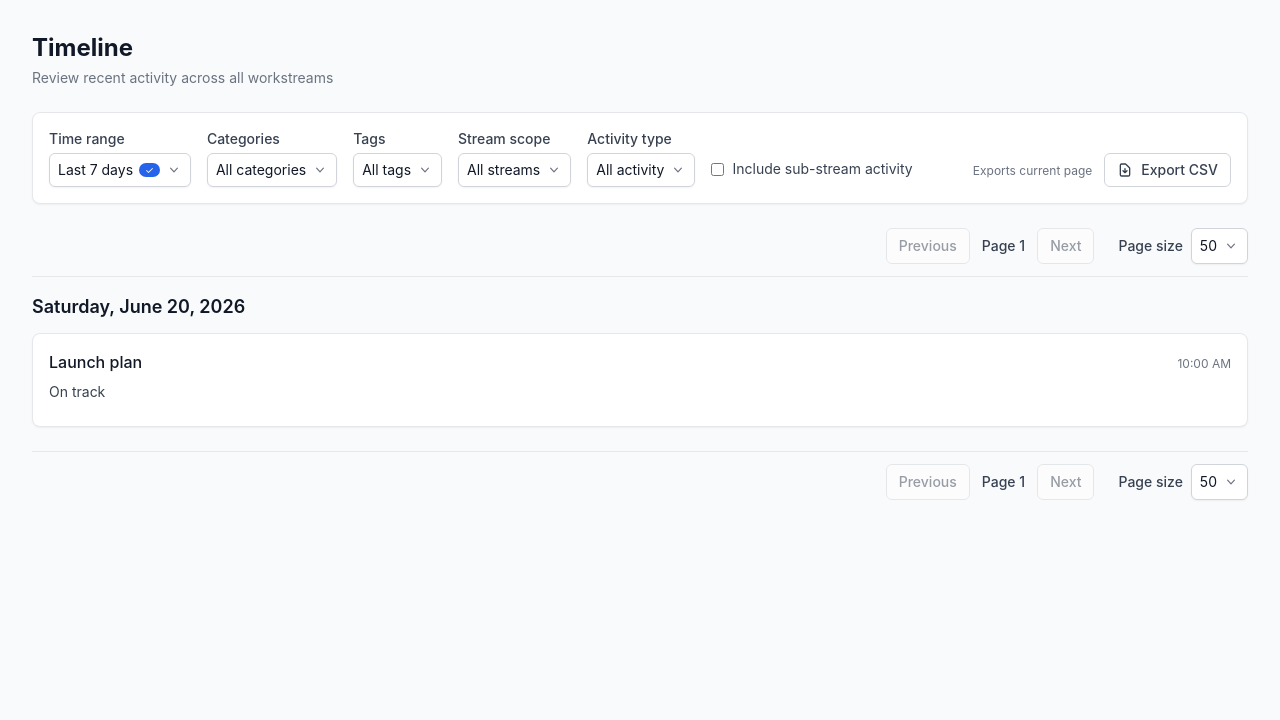
it: Timeline filters layout › closes the categories dropdown when clicking outside
Click the button "All categories" at coordinates (272, 170), box top-left (207, 153), bottom-right (337, 187)
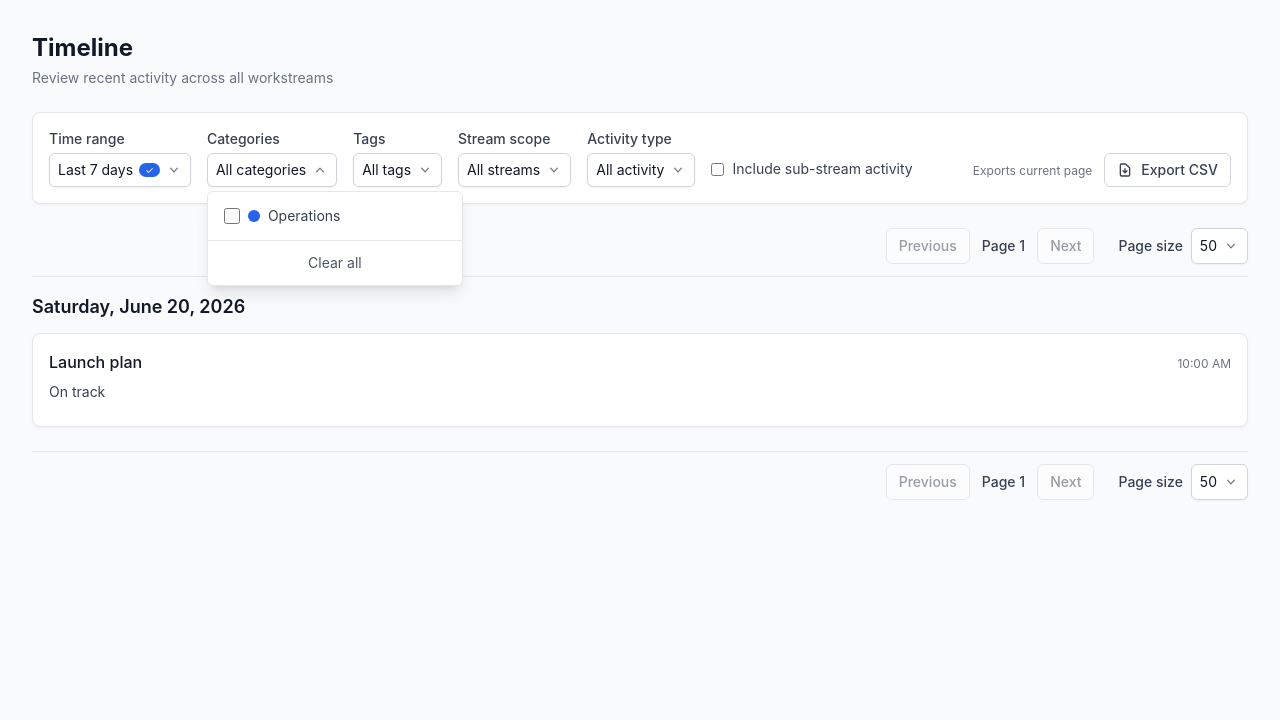
Now the text "Operations" is shown, box top-left (268, 206), bottom-right (340, 226)
Press the mouse on the element that starts with "Timeline" at coordinates (640, 360), box top-left (0, 0), bottom-right (1279, 719)
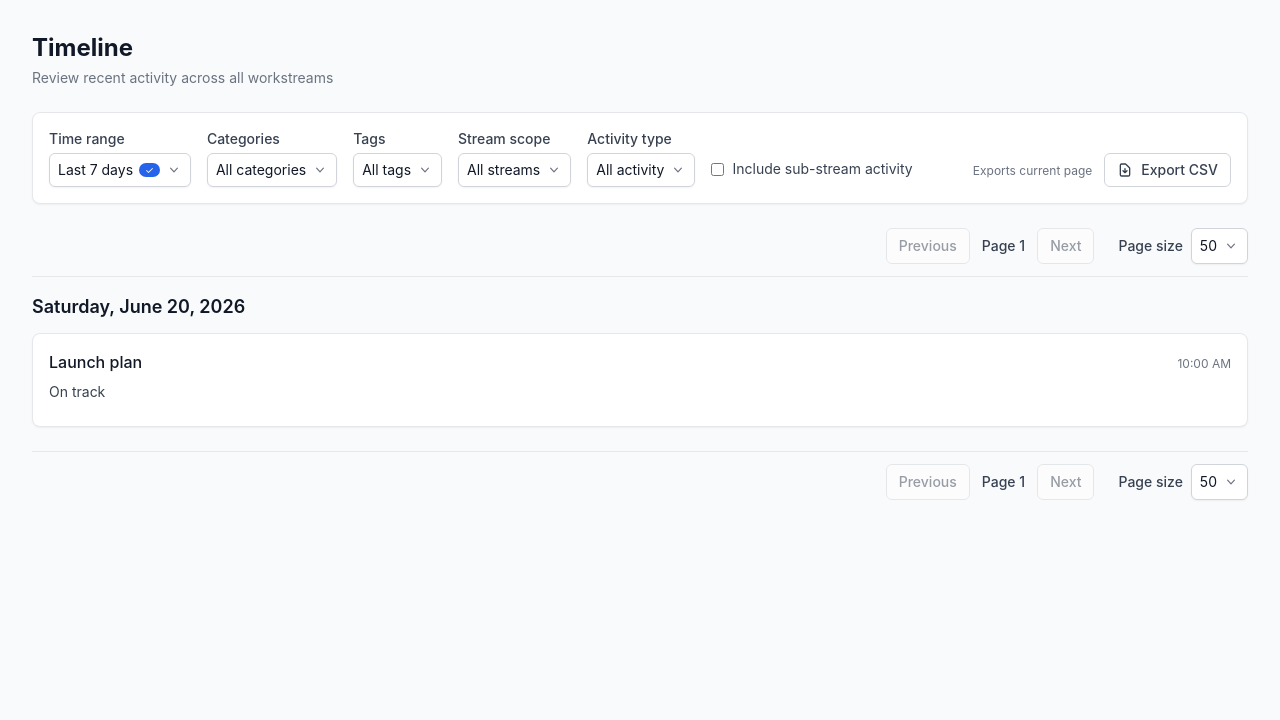
Now the text "Operations" is gone
